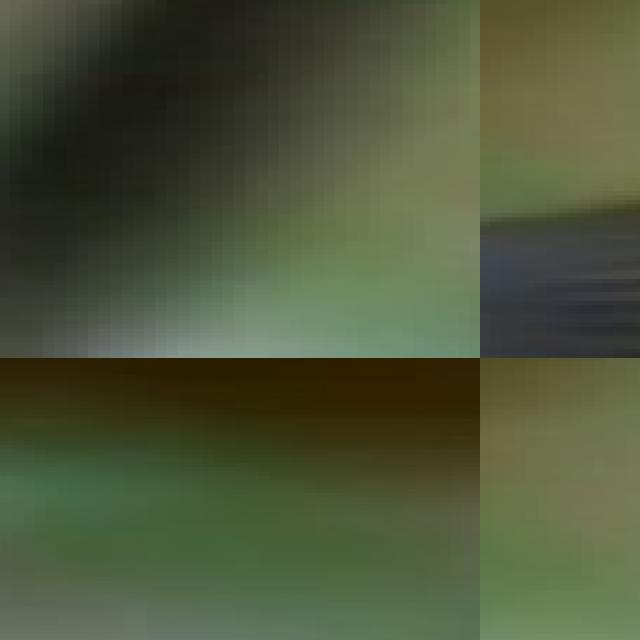fish: (0, 0, 480, 358)
